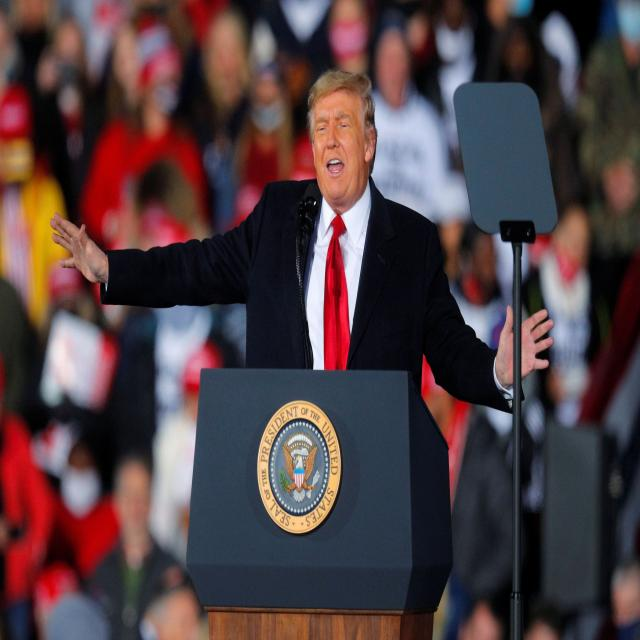stand: (122, 34, 490, 640)
